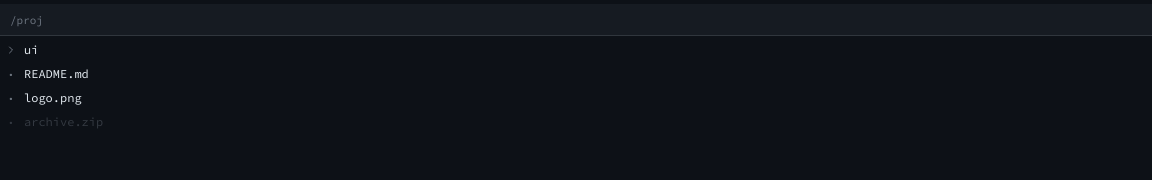
Test: FileTree — reveal active file › does not automatically retry a failed expanded directory load
The width and height of the screenshot is (1152, 180).
Click the button "ui": point(22, 49) [5,42,38,57]
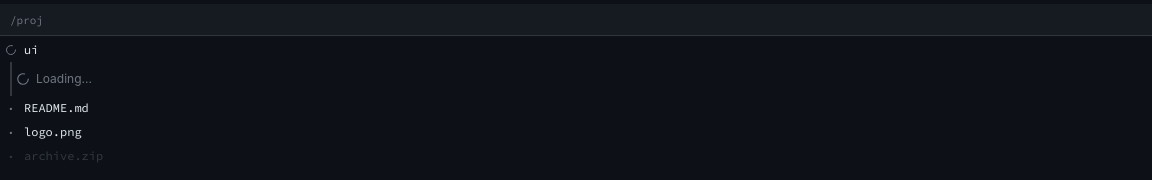
Click the button "ui": point(22, 49) [5,42,38,57]
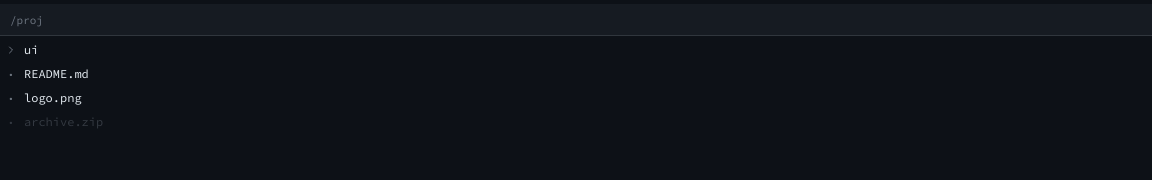
Click the button "ui": point(22, 49) [5,42,38,57]
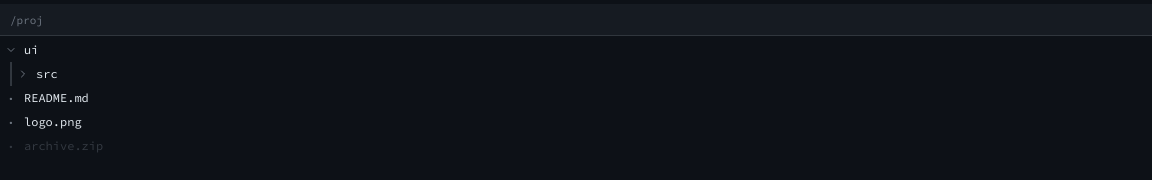
expect the text "src" is shown: met, box [36,66,58,81]
